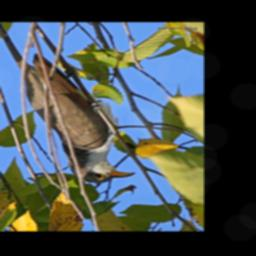Cuckoo: (23, 53, 164, 184)
